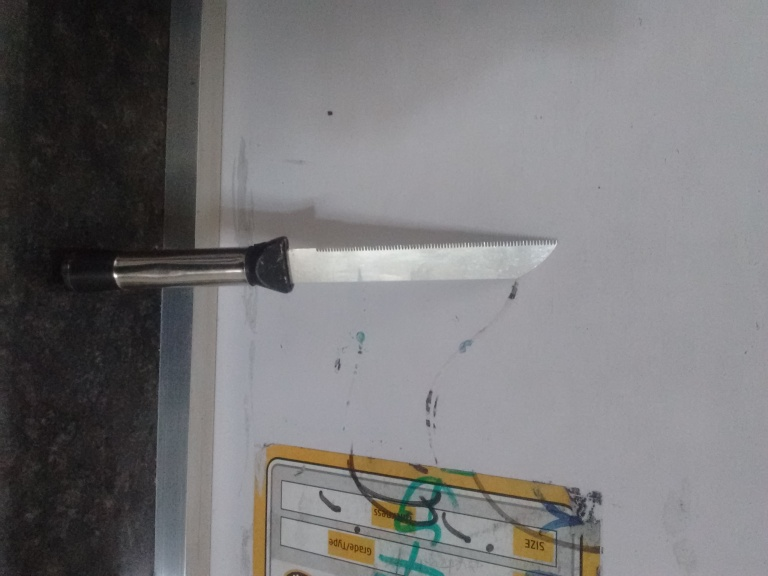knife: (53, 236, 559, 297)
